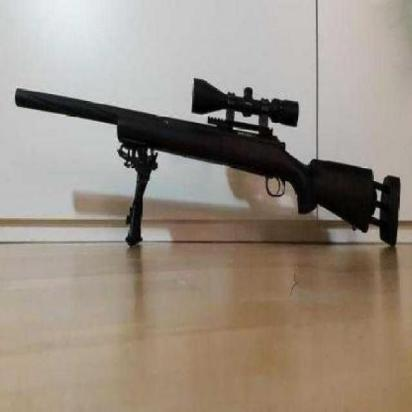Gun: (13, 27, 410, 280)
